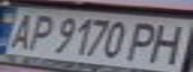0: (103, 17, 133, 61)
1: (69, 16, 93, 56)
7: (87, 16, 112, 58)
9: (45, 13, 78, 55)
A: (0, 10, 42, 51)
H: (142, 20, 193, 65)
P: (121, 19, 169, 63), (21, 11, 60, 52)
